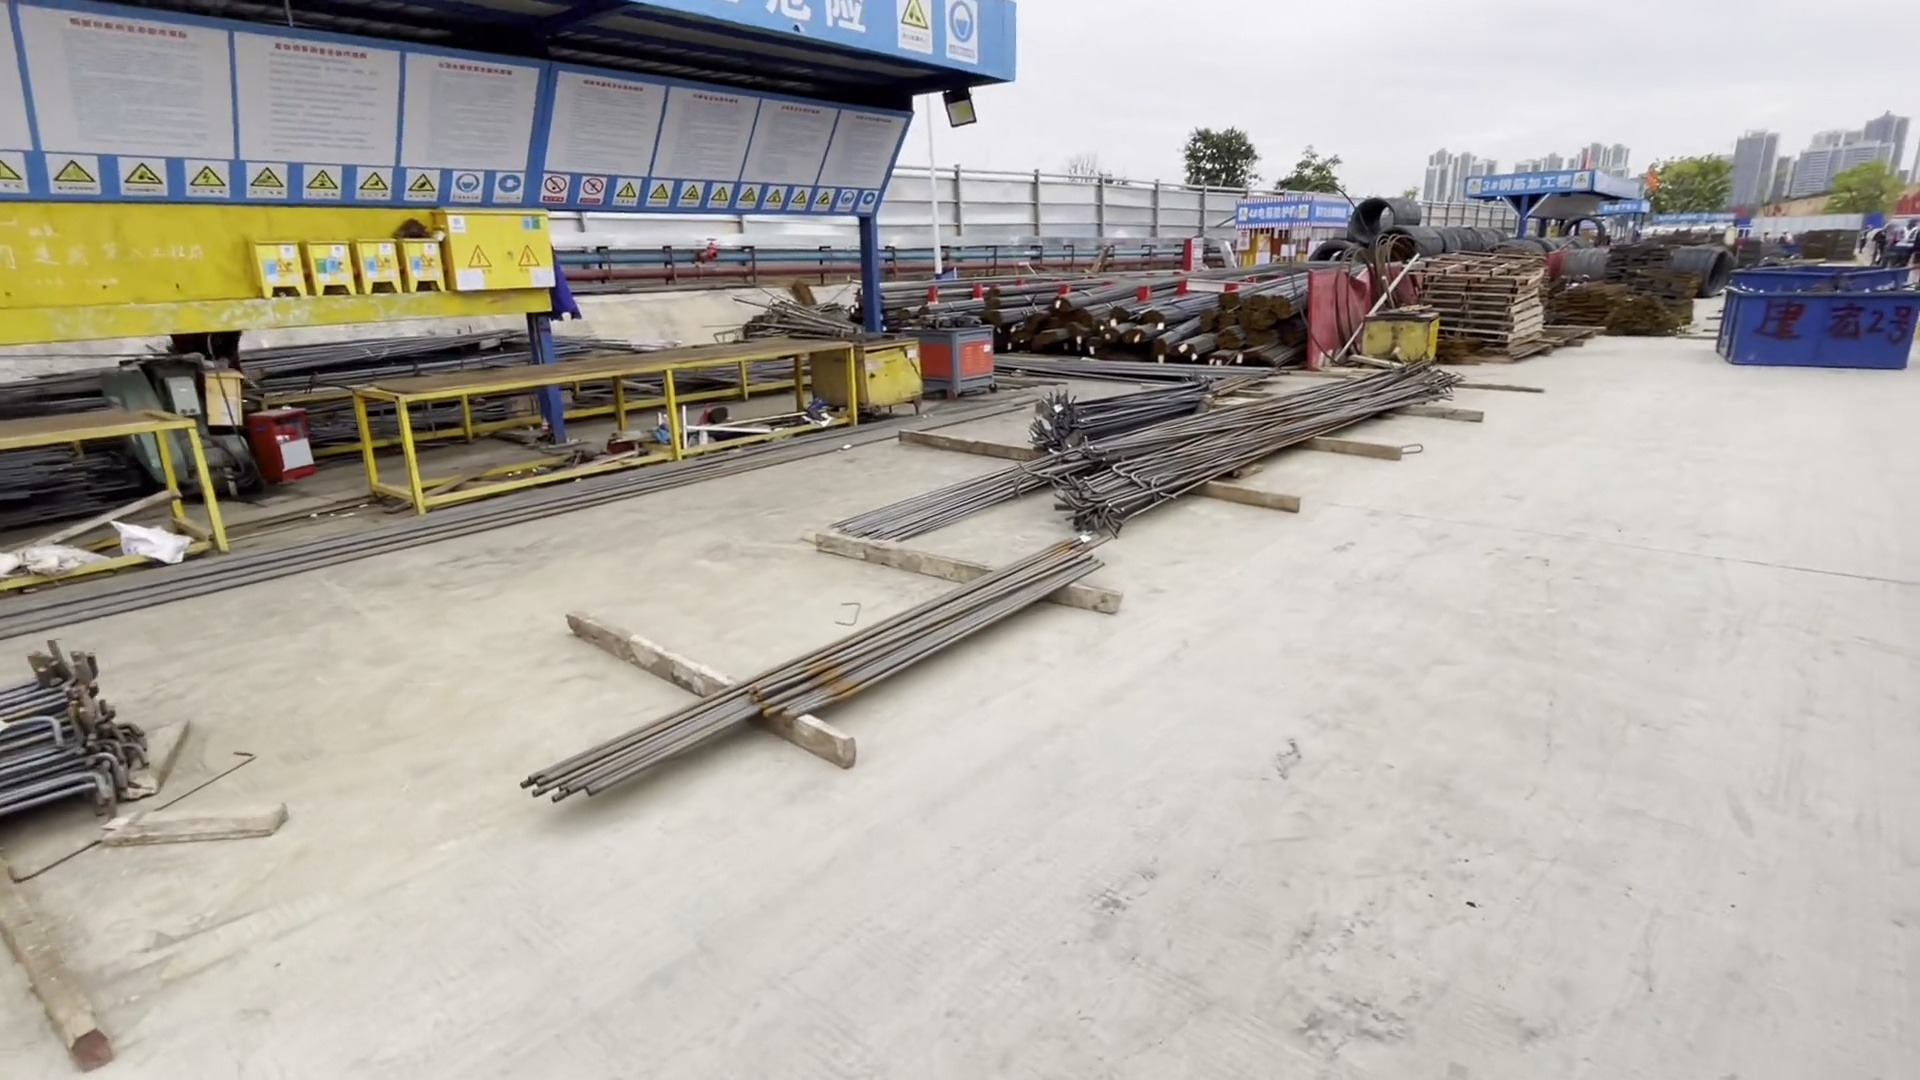ebox: (222, 208, 553, 313)
hopper: (1717, 269, 1920, 371)
rebar: (517, 359, 1464, 822), (849, 273, 1307, 373), (1, 644, 165, 810)
slogan: (1, 1, 1004, 216)
